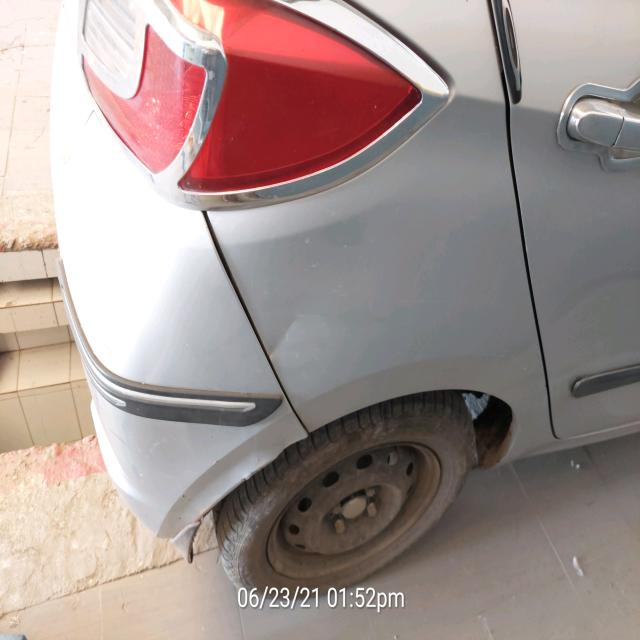damage: (263, 306, 326, 383)
